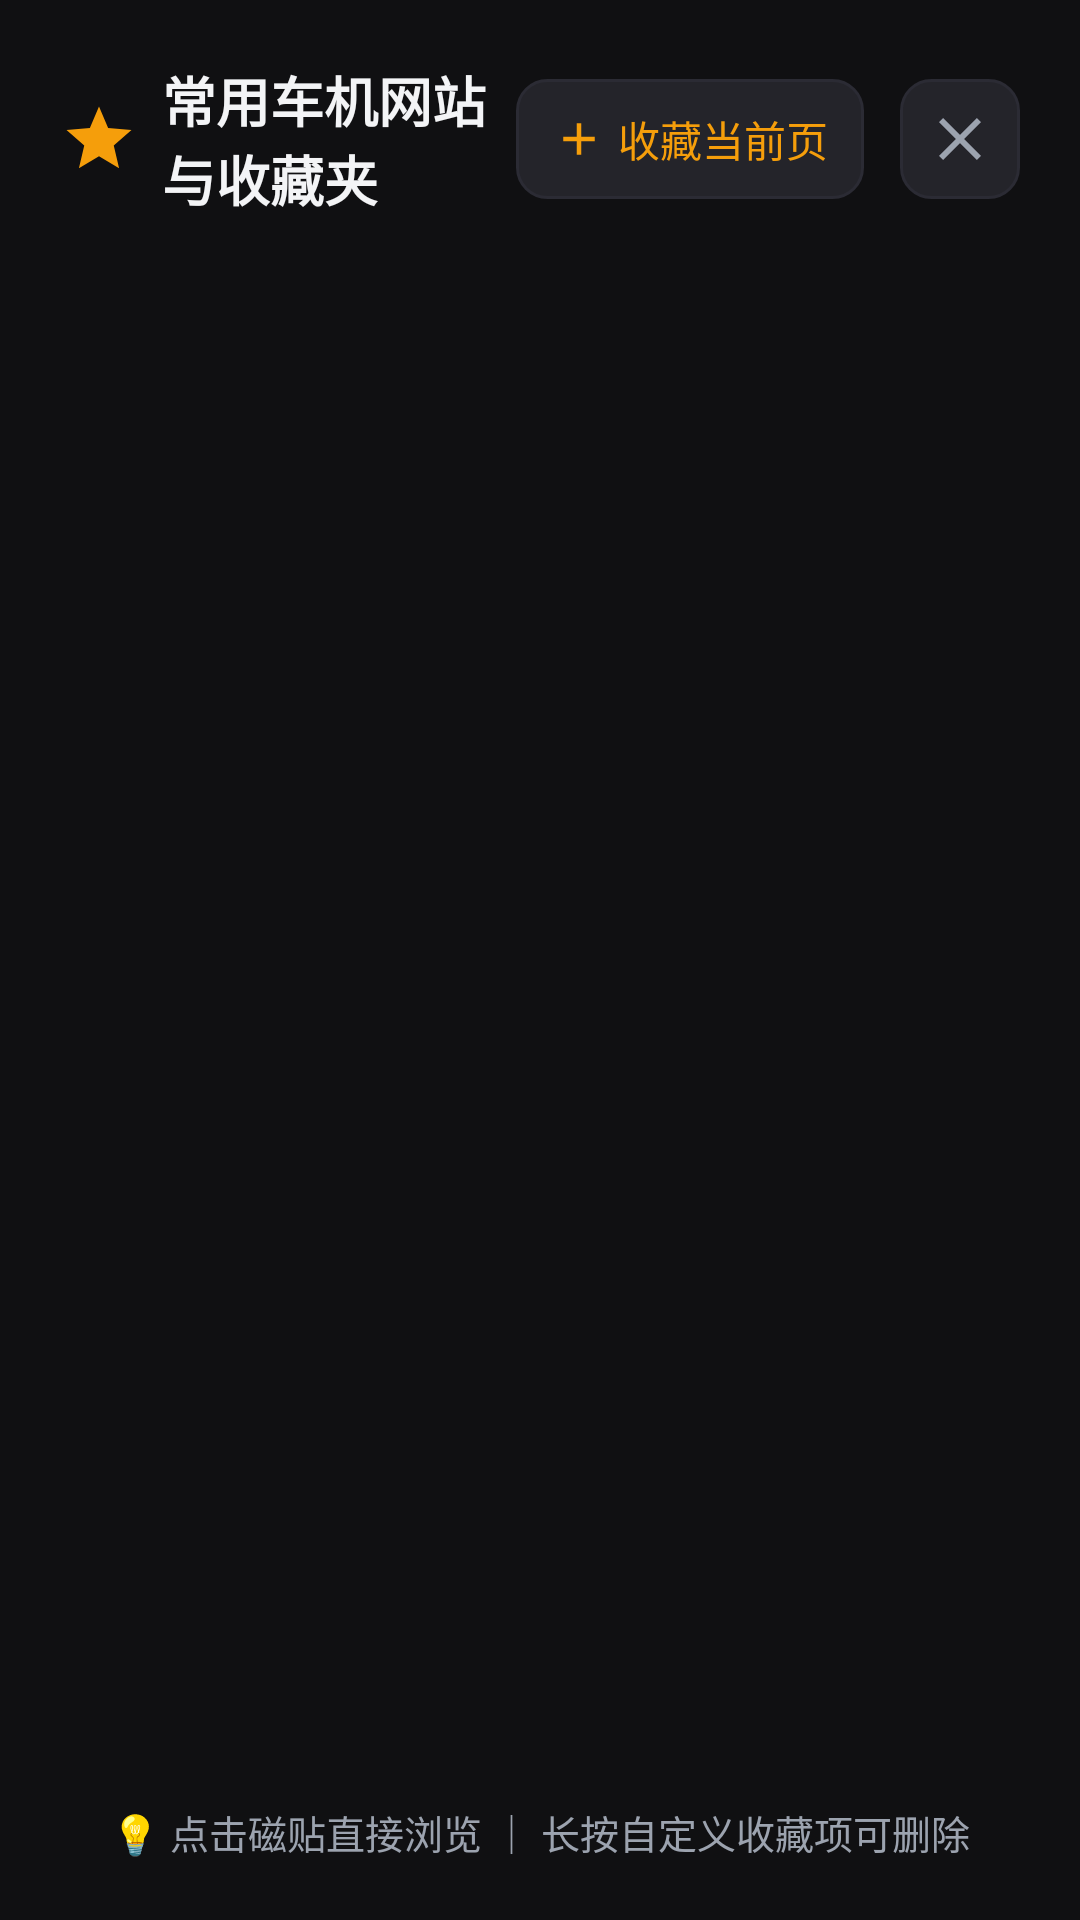

Screen size 1080w x 1920h. Icon name, then its box in pixels as BBox(x1, y1, x2, y2):
add: BBox(563, 123, 595, 155)
close: BBox(900, 79, 1020, 199)
star: BBox(67, 107, 131, 168)
